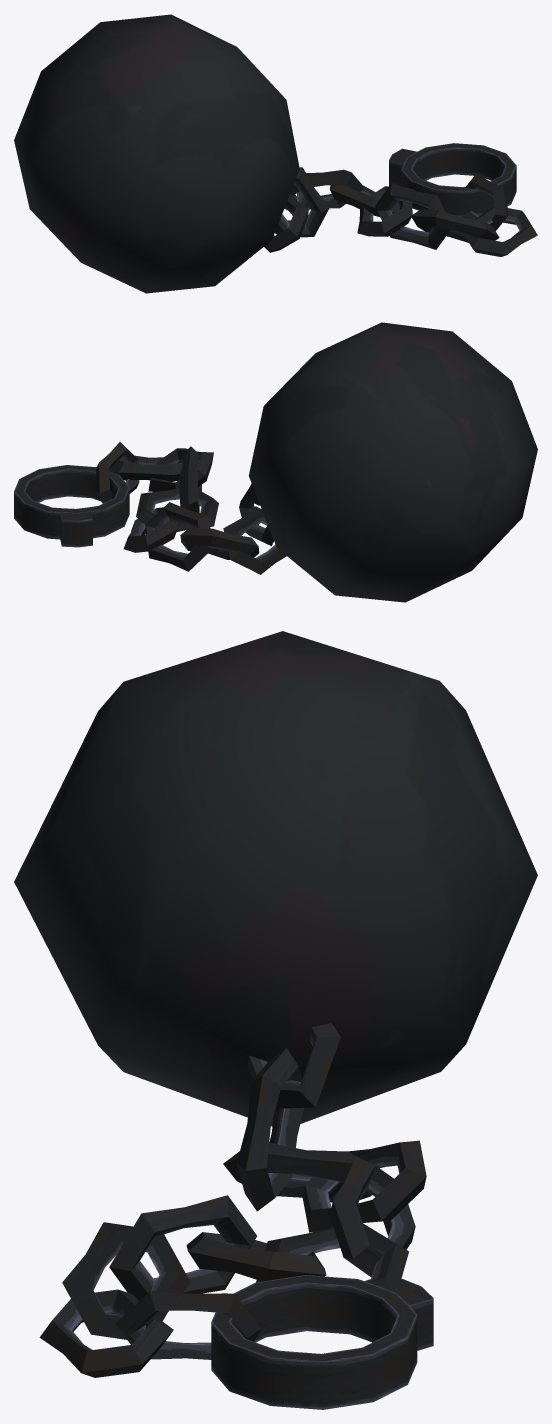
File: SM_PROP_ballchain_battle.fbx
3 renders of one model, top to bottom at view 1: azimuth 30°, elevation 25°; view 2: azimuth 150°, elevation 25°; view 3: azimuth 270°, elevation 25°, orthographic. The views are drawn at different scales.
Visible parts, largest first — view 1: SM_PROP_ballchain_battle; view 2: SM_PROP_ballchain_battle; view 3: SM_PROP_ballchain_battle.
Boxes of the visible parts, box(x1,y1,x2,y2) form: SM_PROP_ballchain_battle: box(14, 14, 537, 293); SM_PROP_ballchain_battle: box(14, 322, 537, 602); SM_PROP_ballchain_battle: box(14, 631, 537, 1409).
Size of the model in its own units: 64.89 by 32.52 by 34.11.
